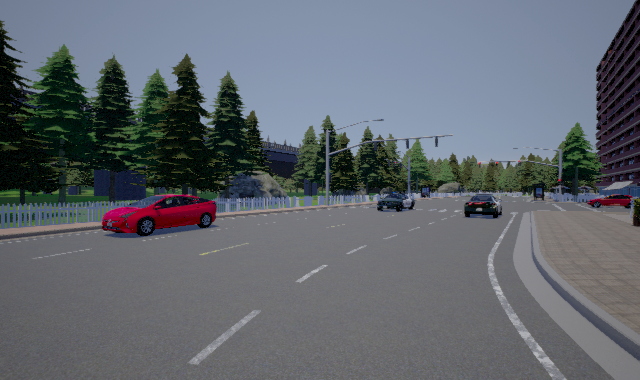traffic_light: (558, 179, 561, 185), (518, 161, 521, 166), (479, 162, 481, 168), (496, 161, 498, 167)
vehicle: (102, 194, 217, 236), (464, 194, 502, 218), (377, 192, 415, 212), (587, 194, 633, 209)
